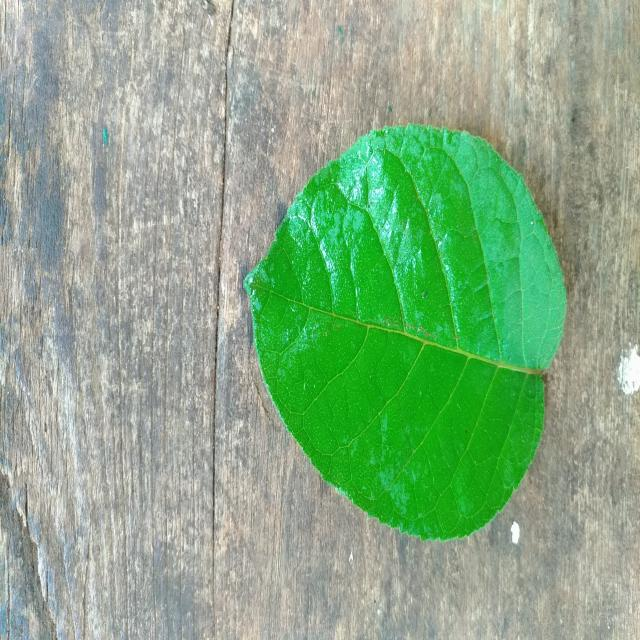padri: (245, 124, 566, 540)
